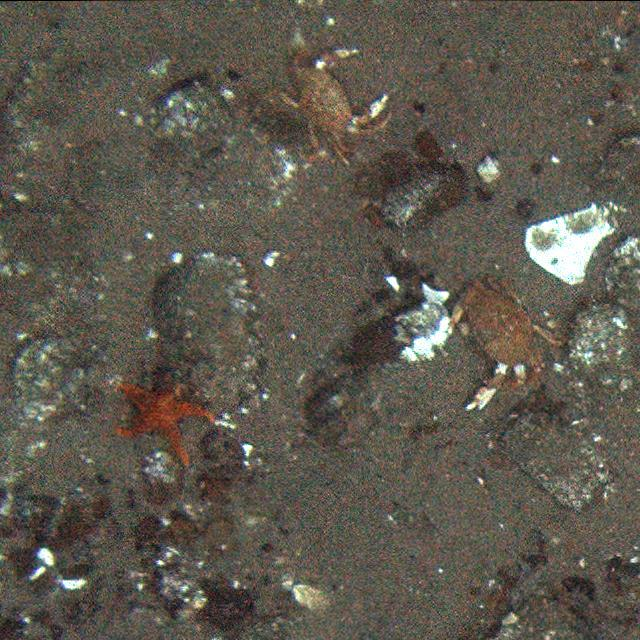crab: (444, 271, 556, 416), (270, 43, 390, 163)
